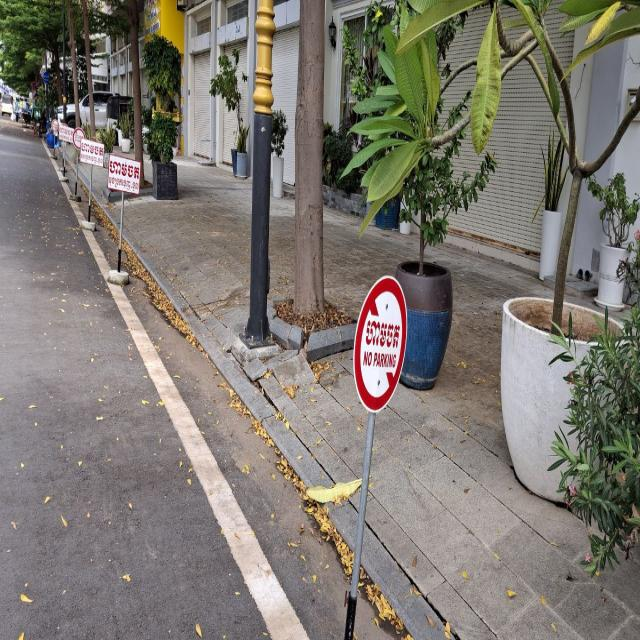Yolov11_80vkh: (360, 317, 404, 355), (108, 159, 144, 187), (77, 140, 107, 160)
